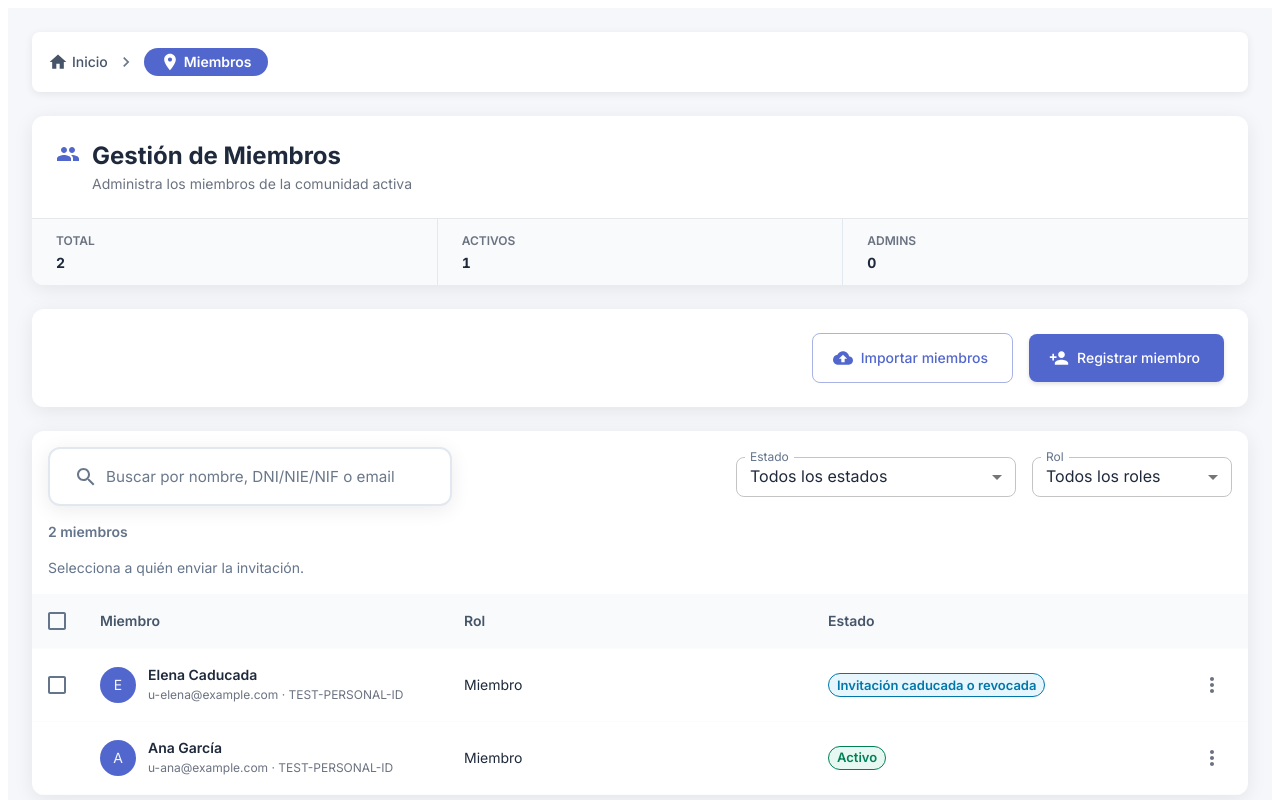
inviting from the roster › UI-MBR-012 offers Reenviar, not Invitar, on a member whose link expired, and resending shows the invitation sent
The width and height of the screenshot is (1280, 800).
Expected: the text "Ana García" is shown, x1=148 y1=739 x2=222 y2=756
Expected: the text "Invitación caducada o revocada" is shown, x1=829 y1=676 x2=1044 y2=695
Click the button named "Más acciones para Elena Caducada" at (1212, 685), box x1=1195 y1=668 x2=1229 y2=702
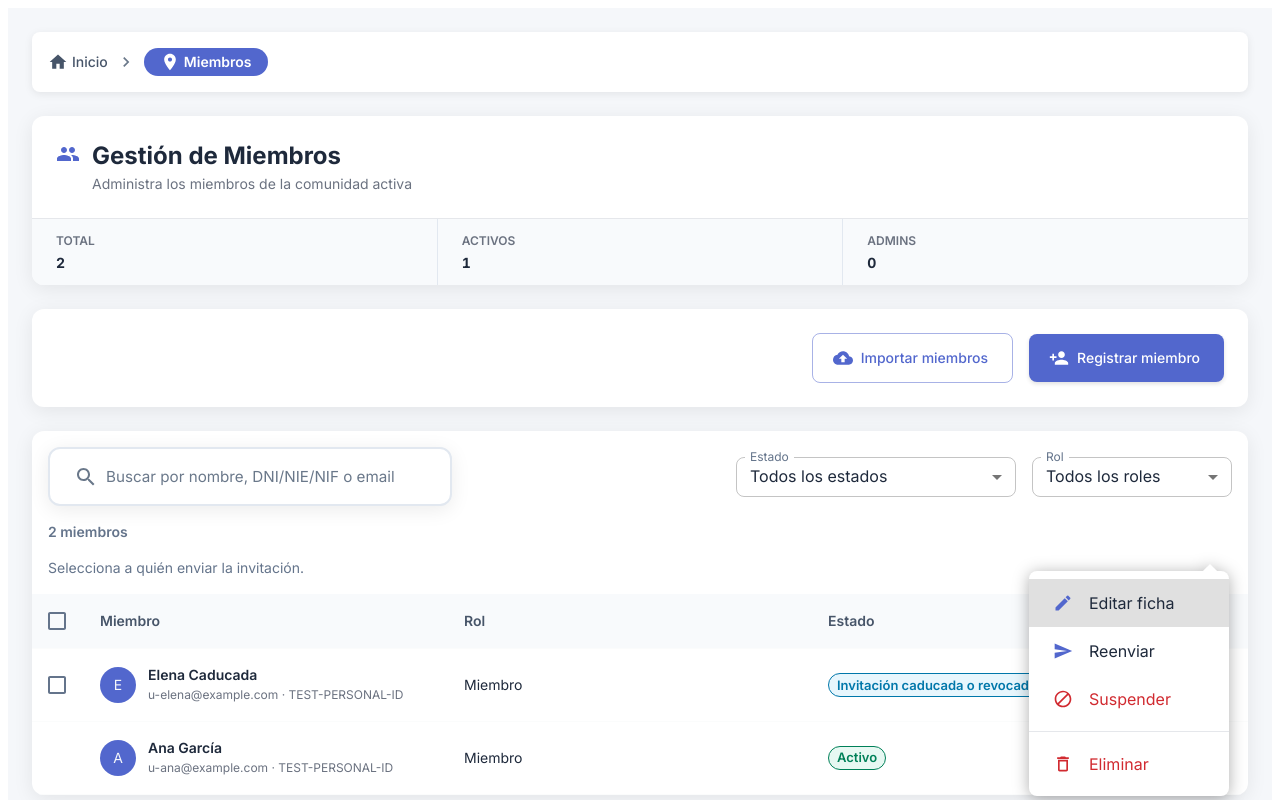
Press Escape
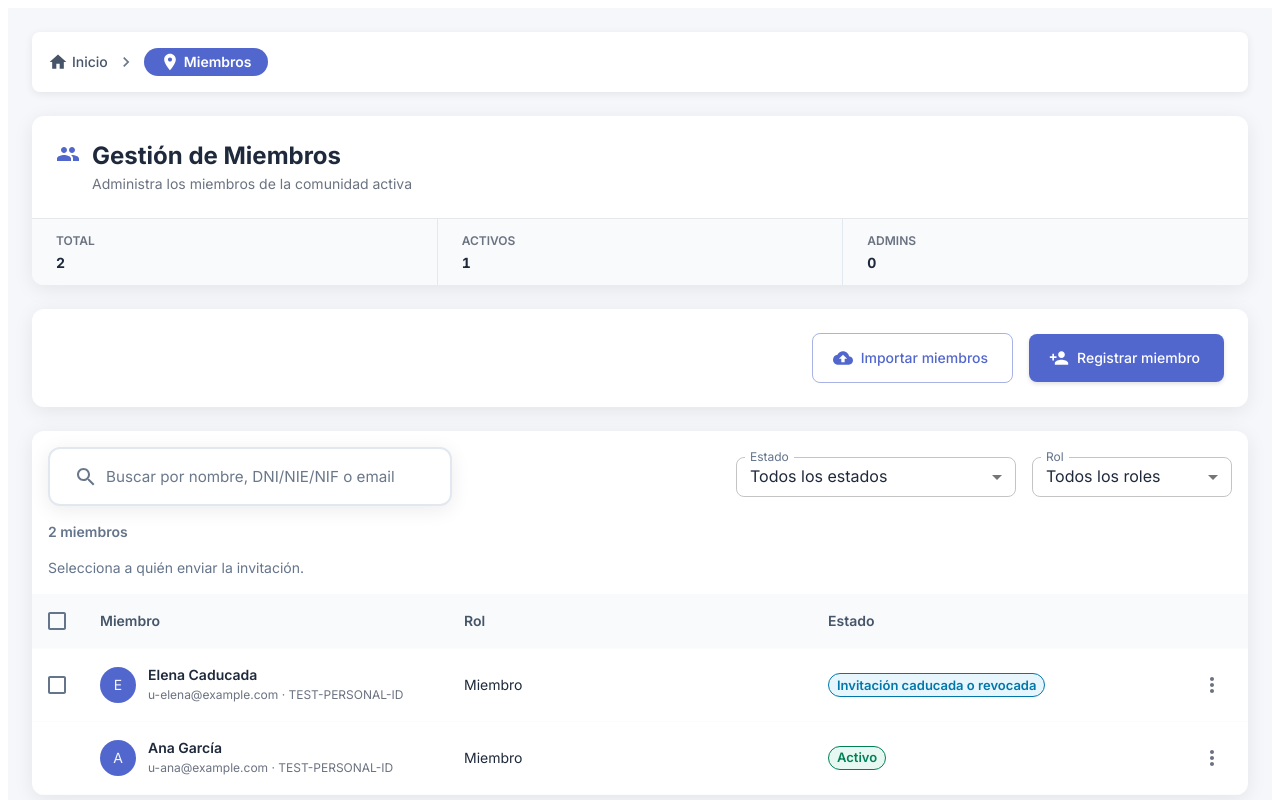
Now the menu is gone
Click the button named "Más acciones para Elena Caducada" at (1212, 685), box x1=1195 y1=668 x2=1229 y2=702
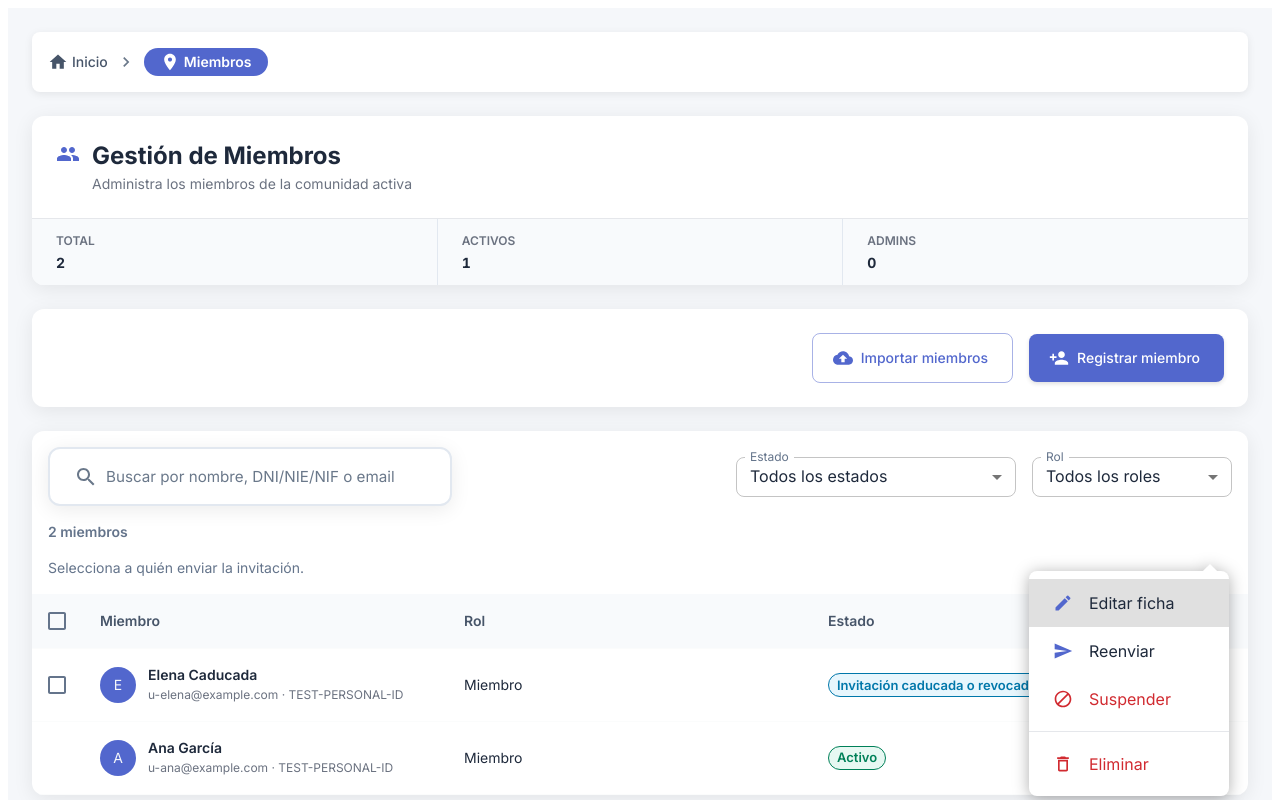
Click the menu item "Reenviar" at (1104, 651), box x1=1053 y1=641 x2=1155 y2=661
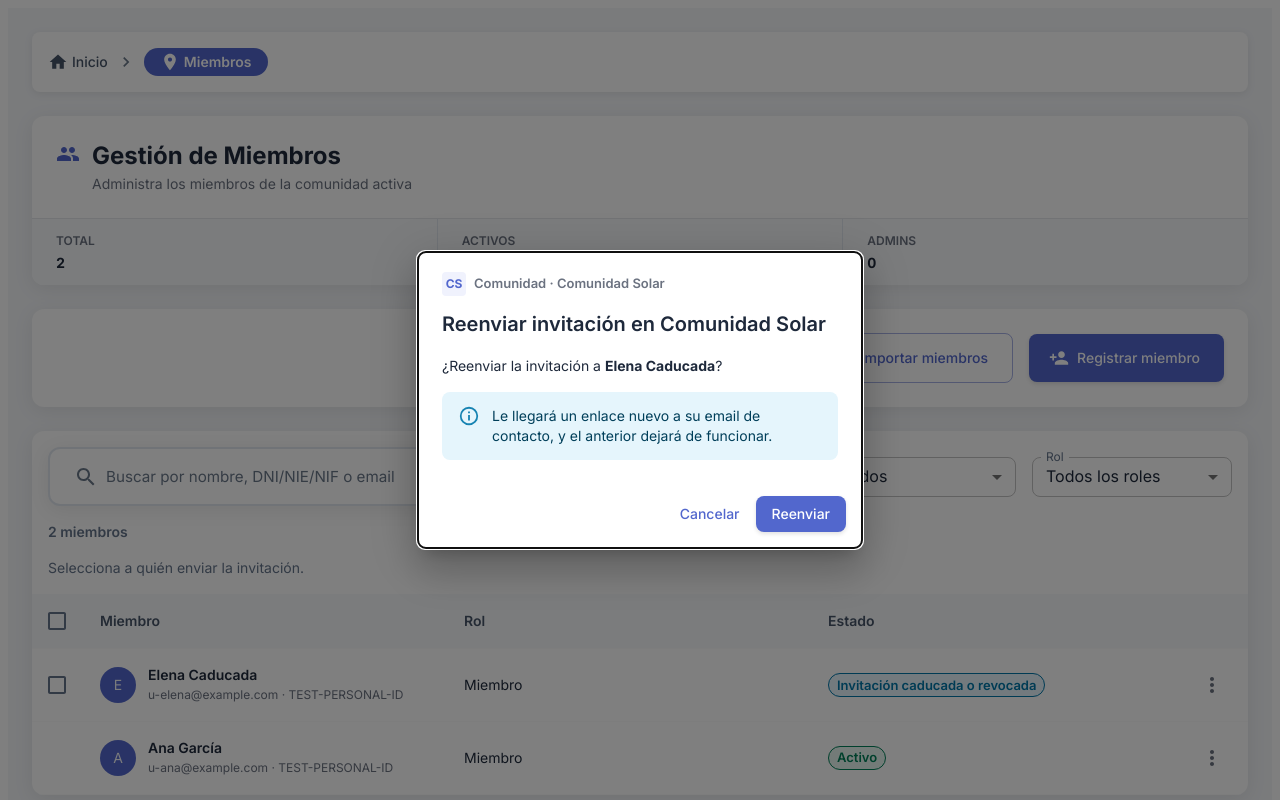
Click the button "Reenviar" at (801, 514), box x1=756 y1=496 x2=846 y2=532
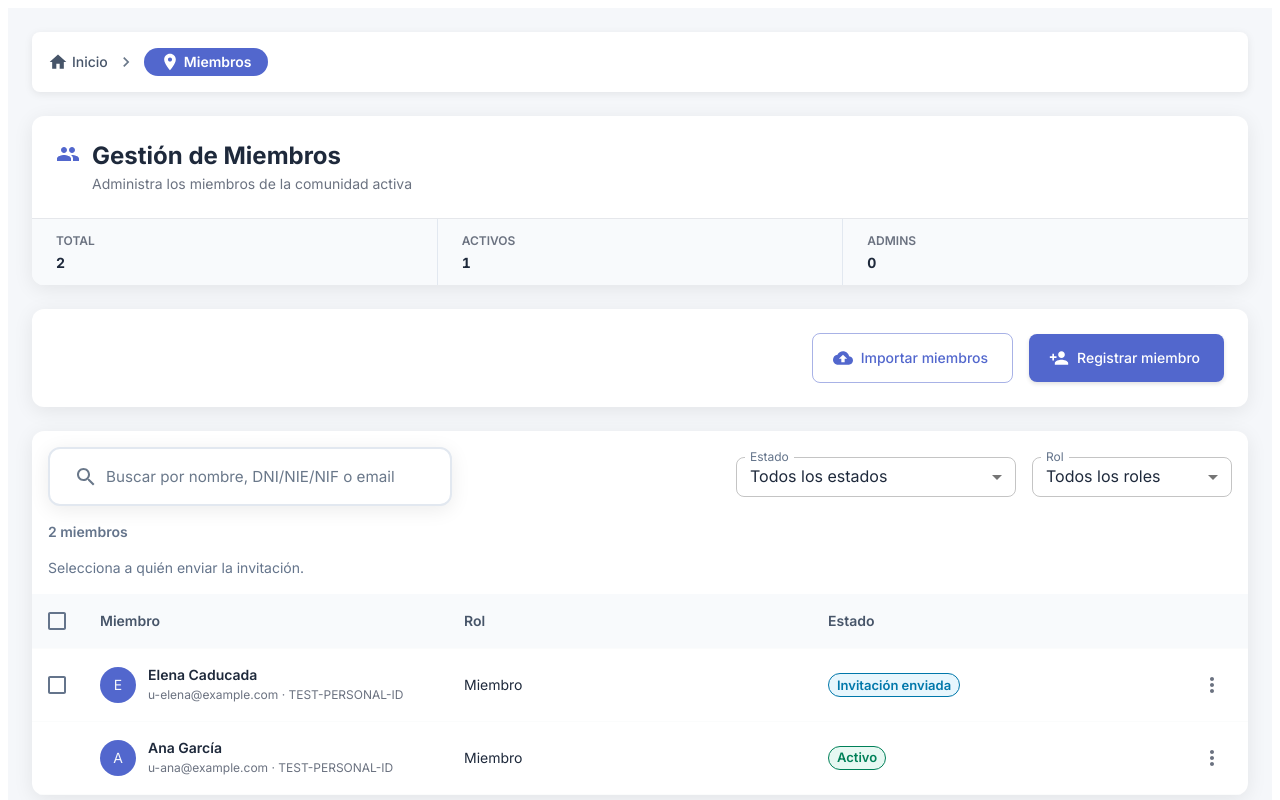
Now the dialog is gone
Now the text "Invitación enviada" is shown, box x1=829 y1=676 x2=959 y2=695
